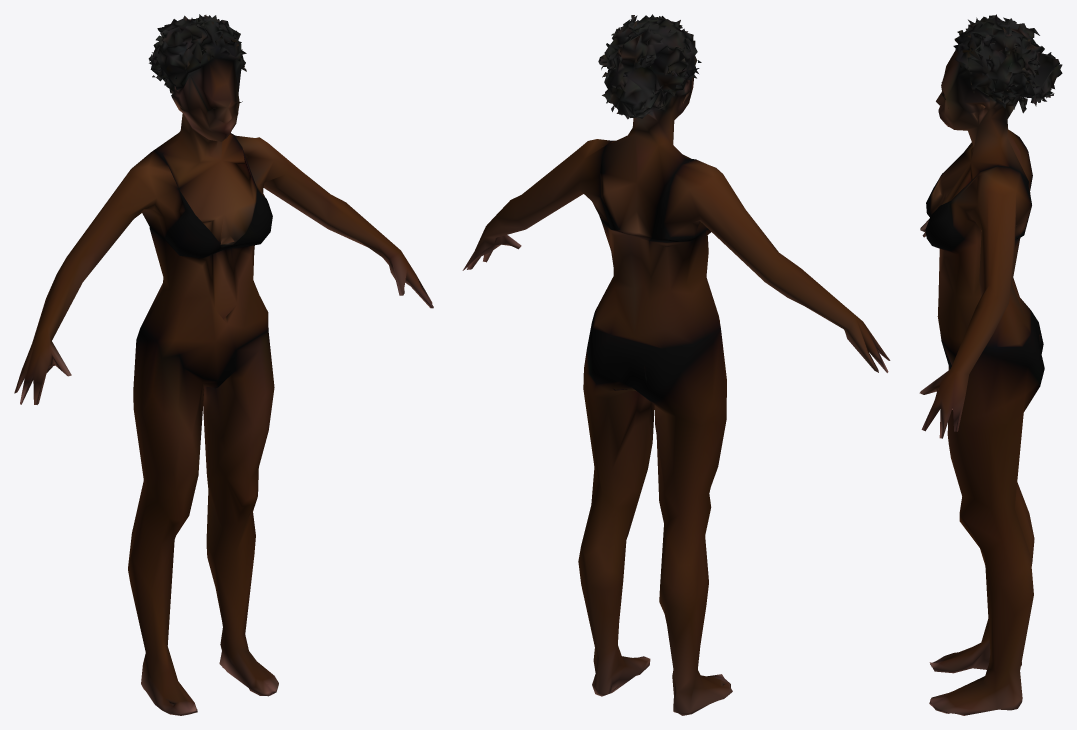
File: 3d_male_model_LOD2.glb
3 views of the same model, side by side, from view 1: azimuth 30°, elevation 25°; view 2: azimuth 150°, elevation 25°; view 3: azimuth 270°, elevation 25° (orthographic).
Visible parts, largest first — view 1: geometry_0; view 2: geometry_0; view 3: geometry_0.
Part boxes in pixels (<box>): geometry_0: <box>14,14,433,715</box>; geometry_0: <box>462,14,890,715</box>; geometry_0: <box>919,14,1062,715</box>.
Bounding box in the file's own units: 0.6465 × 0.9964 × 0.1937.
